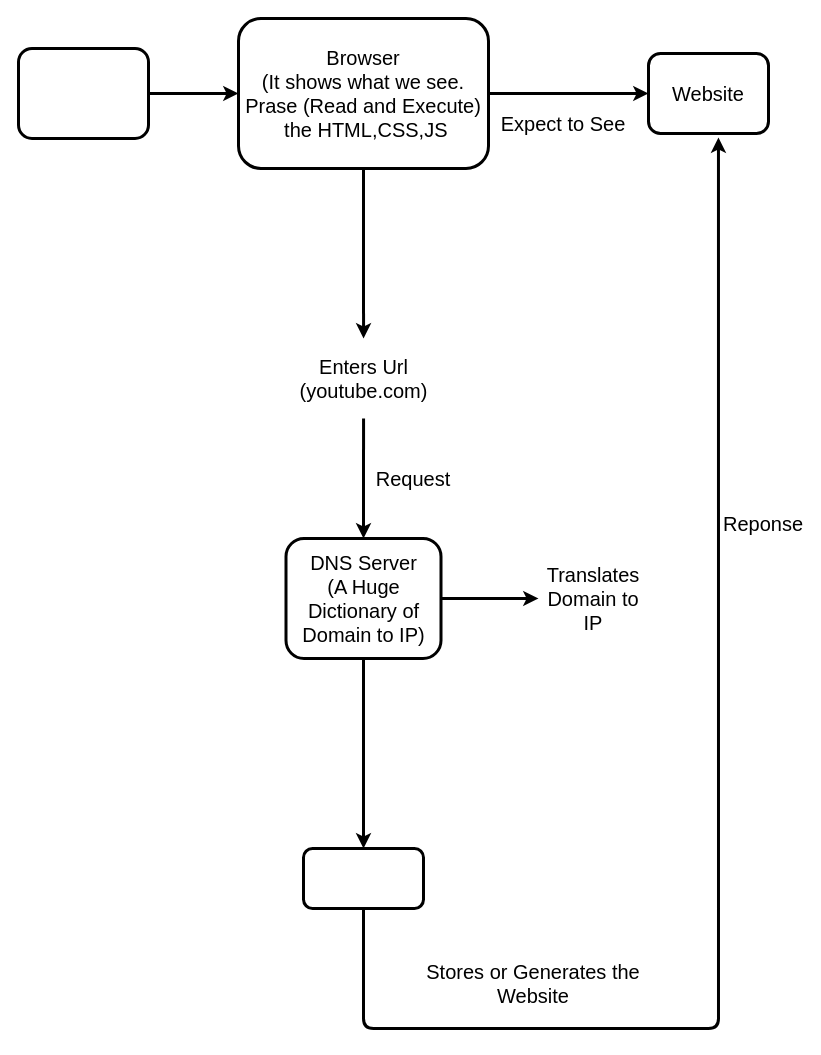
Image size: 821x1055. Some labels were removed from this diagram. Here are the shapes that lost their labels. From the top down, the centre of each, then its label:
At point 83,93: "Client (User)".
At point 363,878: "Server".
